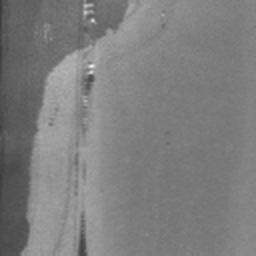Slag inclusion: (0, 0, 131, 256), (79, 60, 96, 99), (78, 212, 86, 256)
